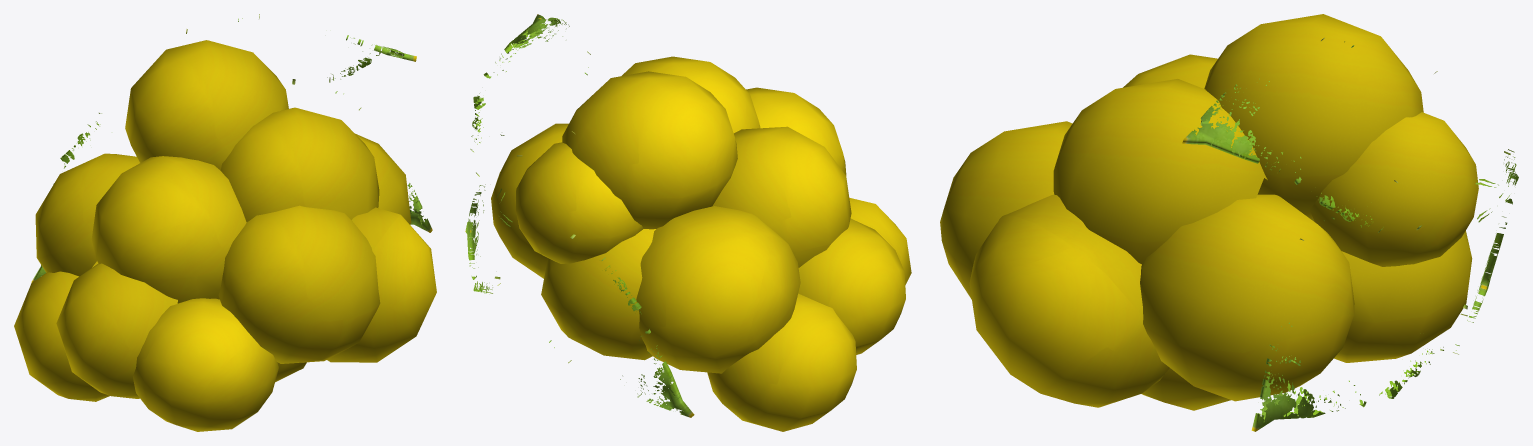
File: Grape.fbx
3 views of the same model, side by side, from view 1: azimuth 30°, elevation 25°; view 2: azimuth 150°, elevation 25°; view 3: azimuth 270°, elevation 25° (orthographic). The views are drawn at different scales.
Parts seen in each view (by area): view 1: Vert.001; view 2: Vert.001; view 3: Vert.001.
Part boxes in pixels (x1,y1,x2,y2): Vert.001: (14, 14, 436, 431); Vert.001: (465, 14, 911, 431); Vert.001: (940, 14, 1518, 431).
Bounding box in the file's own units: 63.34 × 50.63 × 62.16.
Materials: 1 (1 with a texture image).
